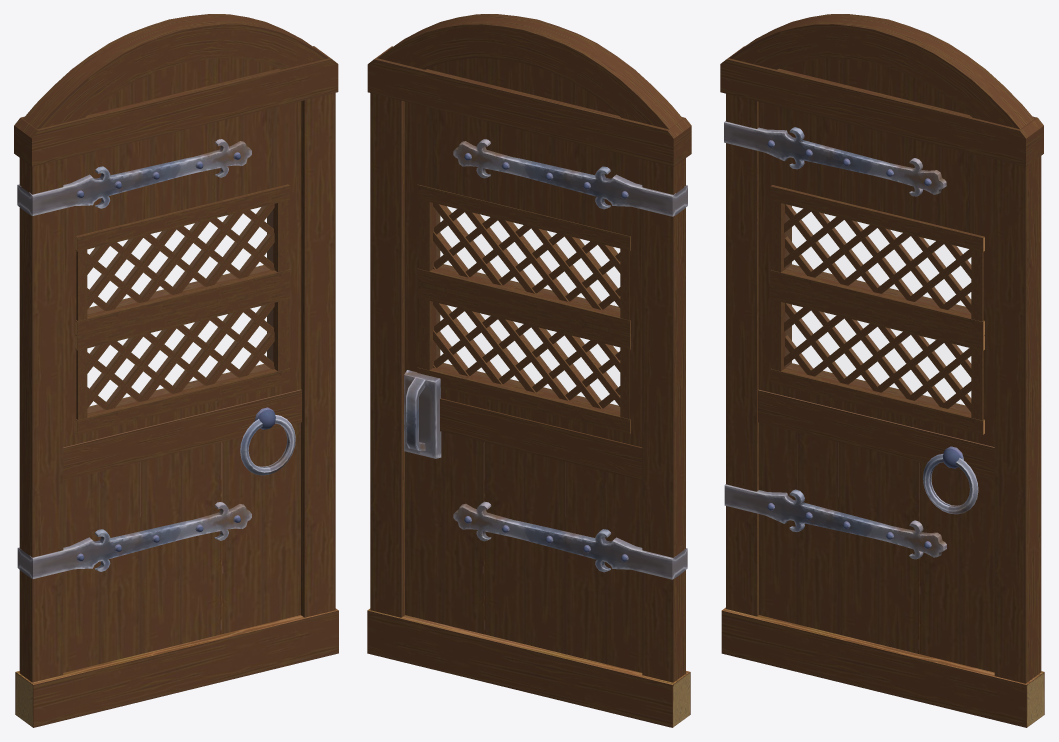
File: Door_7_Round.gltf
3 renders of one model, left to right at view 1: azimuth 30°, elevation 25°; view 2: azimuth 150°, elevation 25°; view 3: azimuth 330°, elevation 25°, orthographic.
Parts seen in each view (by area): view 1: Door_7_Round; view 2: Door_7_Round; view 3: Door_7_Round.
Boxes of the visible parts, x1,y1,x2,y2 form: Door_7_Round: (14, 14, 338, 727); Door_7_Round: (367, 14, 691, 727); Door_7_Round: (720, 14, 1044, 727).
Bounding box in the file's own units: 1.13 × 2.33 × 0.2093.
3 materials, 2 textured.
